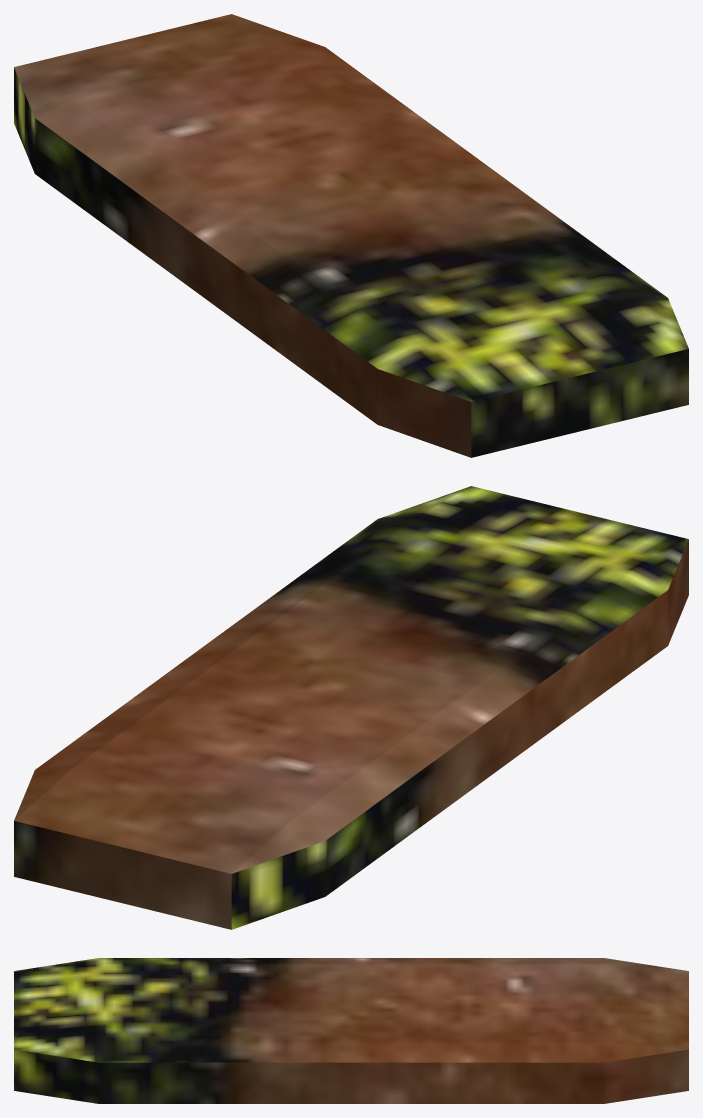
Rendered from plat_4.fbx.
3 views of the same model, one above another, from view 1: azimuth 30°, elevation 25°; view 2: azimuth 150°, elevation 25°; view 3: azimuth 270°, elevation 25° (orthographic). The views are drawn at different scales.
Visible parts, largest first — view 1: Cube.004; view 2: Cube.004; view 3: Cube.004.
Boxes of the visible parts, x1,y1,x2,y2 form: Cube.004: [14, 14, 688, 457]; Cube.004: [14, 486, 688, 929]; Cube.004: [14, 958, 688, 1103].
Bounding box in the file's own units: 142 × 34.97 × 388.
1 material, 1 textured.
